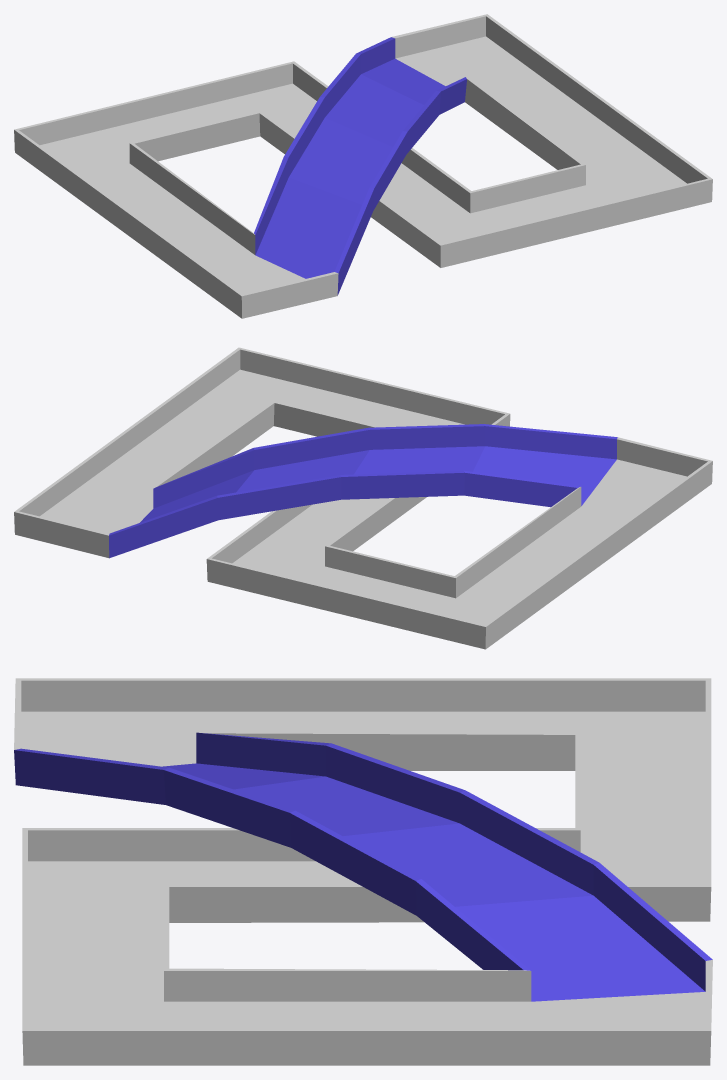
The model's file is EigfhtTrack.fbx.
3 renders of one model, top to bottom at view 1: azimuth 30°, elevation 25°; view 2: azimuth 150°, elevation 25°; view 3: azimuth 270°, elevation 25°, orthographic. The views are drawn at different scales.
Parts seen in each view (by area): view 1: EightTrack; view 2: EightTrack; view 3: EightTrack.
Part boxes in pixels (x1,y1,x2,y2): EightTrack: (14,14,712,318); EightTrack: (14,347,712,649); EightTrack: (14,678,712,1065).
Bounding box in the file's own units: 8571 × 1061 × 7177.
